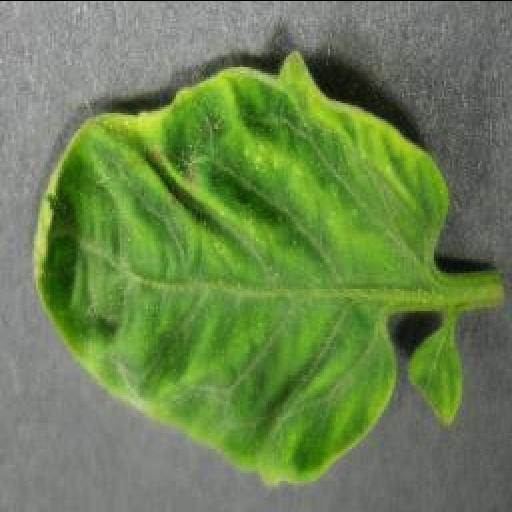disease_tomato: (28, 44, 450, 484)
